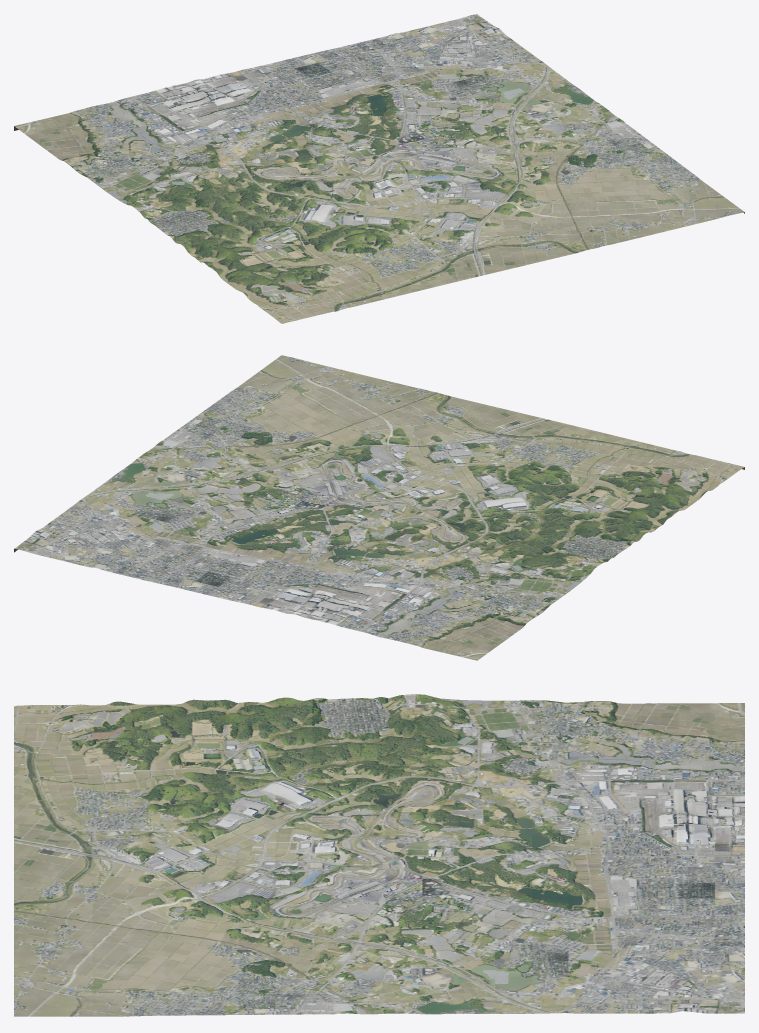
Rendered from 03_japansese_gp.glb.
The picture shows the model from 3 angles, top to bottom: view 1: azimuth 30°, elevation 25°; view 2: azimuth 150°, elevation 25°; view 3: azimuth 270°, elevation 25°; orthographic projection. The views are drawn at different scales.
Parts seen in each view (by area): view 1: tinMesh; view 2: tinMesh; view 3: tinMesh.
Boxes of the visible parts, x1,y1,x2,y2 form: tinMesh: (14,14,744,323); tinMesh: (14,355,744,660); tinMesh: (14,694,744,1016).
Size of the model in its own units: 6099 by 145 by 6100.
Materials: 2 (2 with a texture image).
